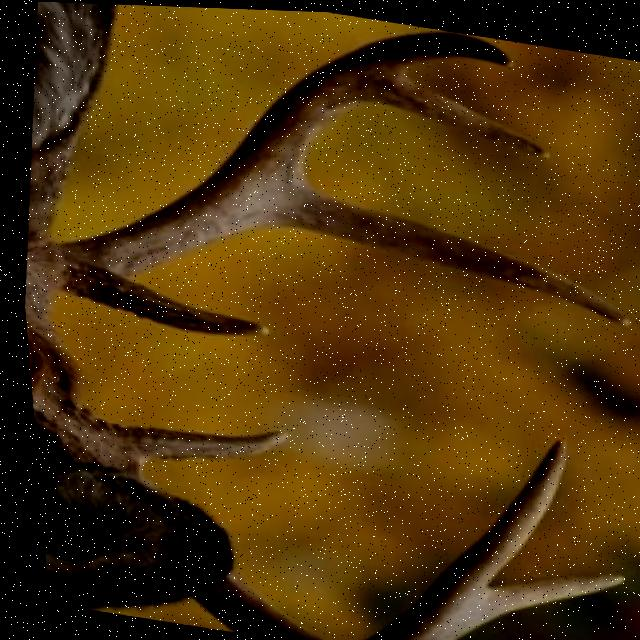L-G1: (95, 419, 288, 459)
L-G3: (467, 566, 620, 624)
R-F: (49, 25, 516, 298)
R-G1: (79, 275, 268, 336)
R-G2: (267, 177, 632, 323)
R-G3: (365, 71, 554, 157)
